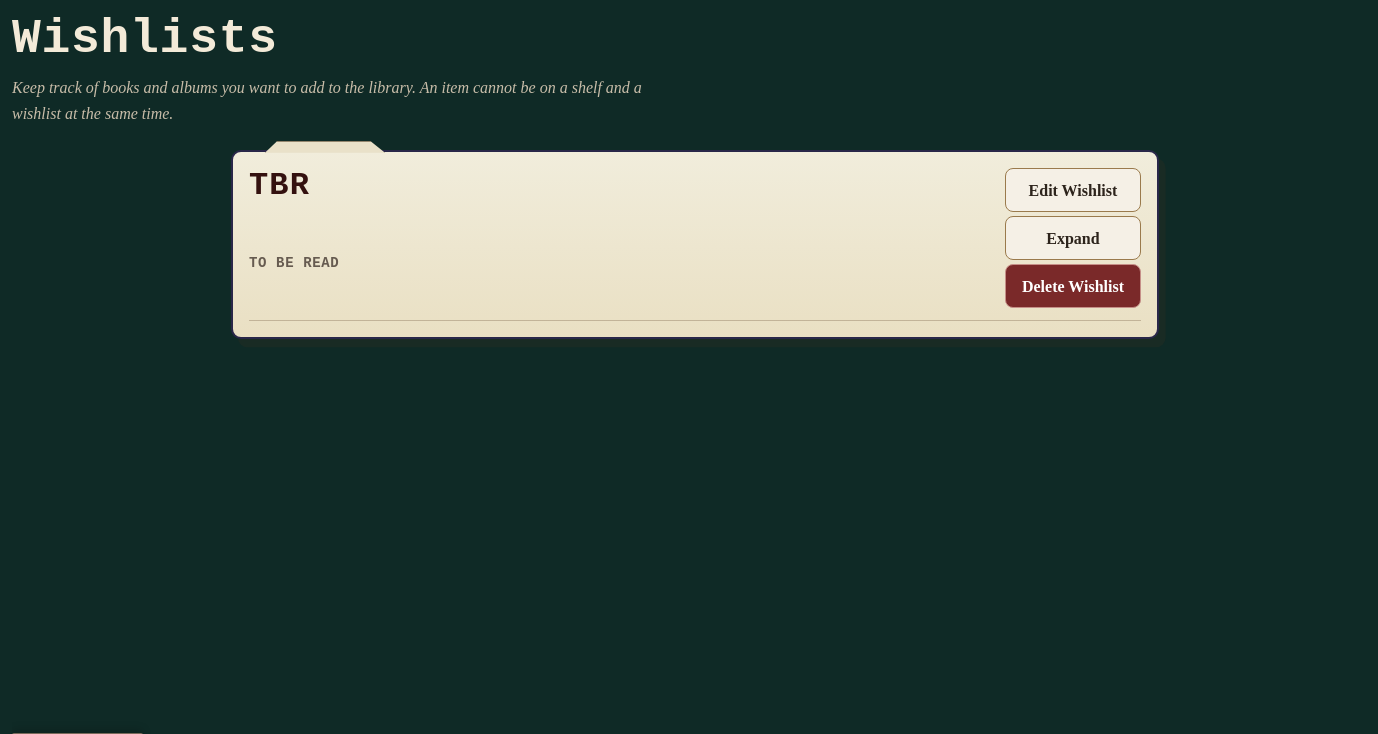
it: WishlistsPage › shows distinct empty-membership copy
Click the button "Expand". click: coordinates (1073, 238)
box: [1005, 216, 1141, 260]
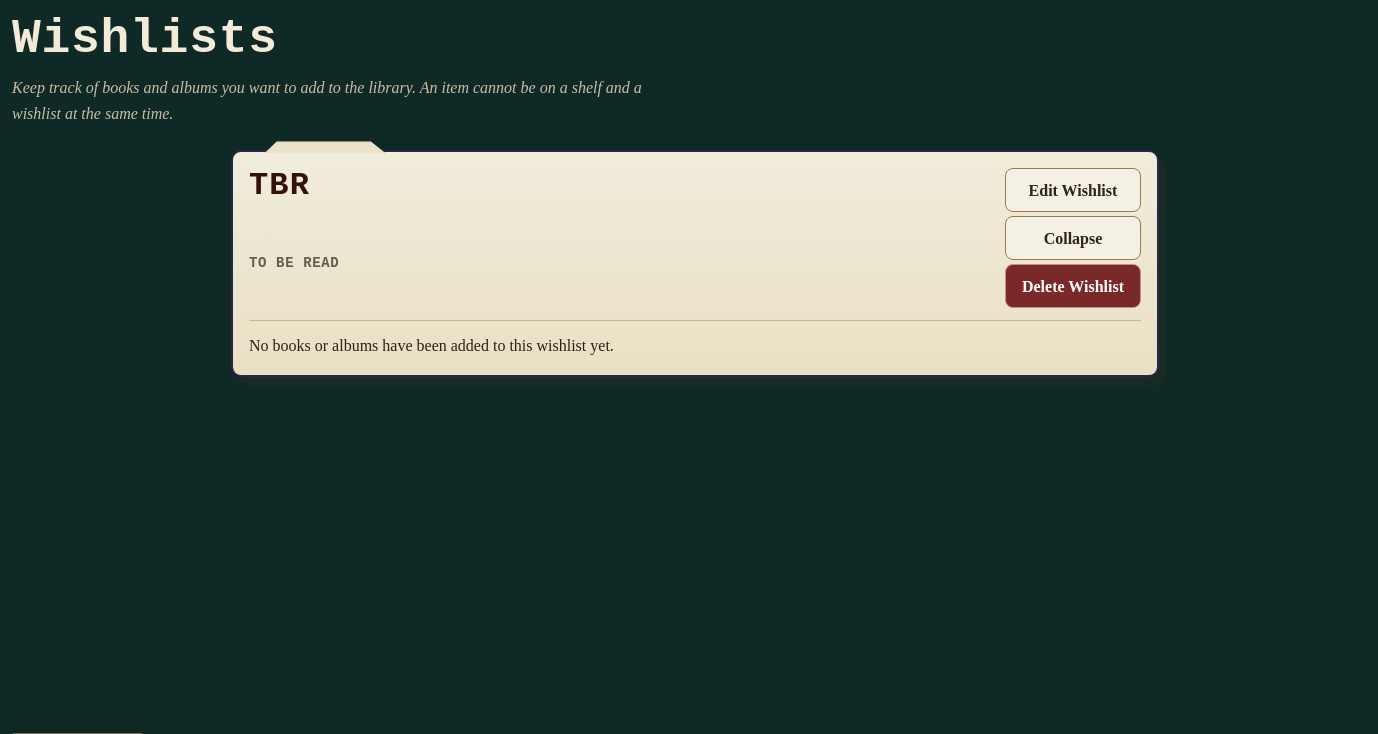
Check: the text "No books or albums have been added to this wishlist yet." is shown, box [249, 337, 614, 354]
